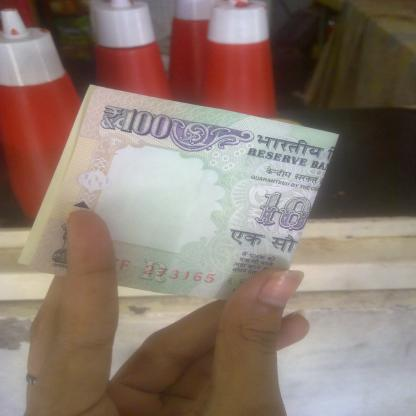Old100Front: (15, 83, 340, 301)
